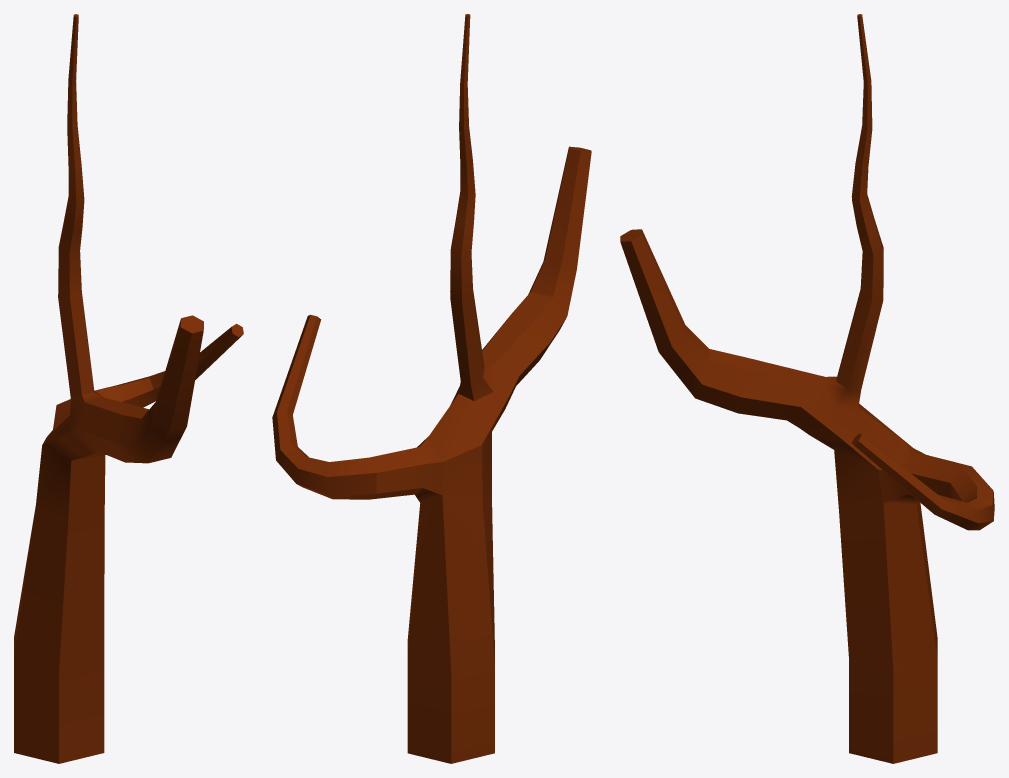
Rendered from Dead_Tree_Colored.fbx.
3 views of the same model, side by side, from view 1: azimuth 30°, elevation 25°; view 2: azimuth 150°, elevation 25°; view 3: azimuth 270°, elevation 25° (orthographic). The views are drawn at different scales.
Visible parts, largest first — view 1: pCylinder1; view 2: pCylinder1; view 3: pCylinder1.
Boxes of the visible parts, bbox=[...] form: pCylinder1: bbox=[14, 14, 243, 763]; pCylinder1: bbox=[272, 14, 591, 763]; pCylinder1: bbox=[620, 14, 994, 763].
Bounding box in the file's own units: 565 × 1890 × 882.
